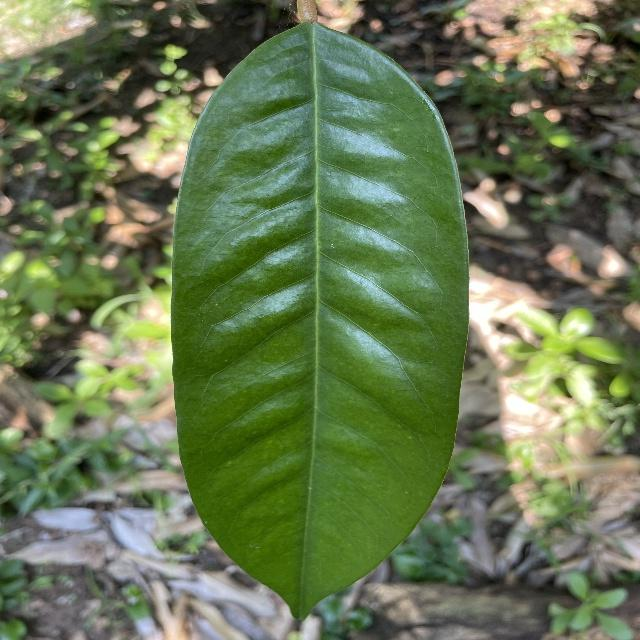No Disease: (155, 9, 479, 627)
